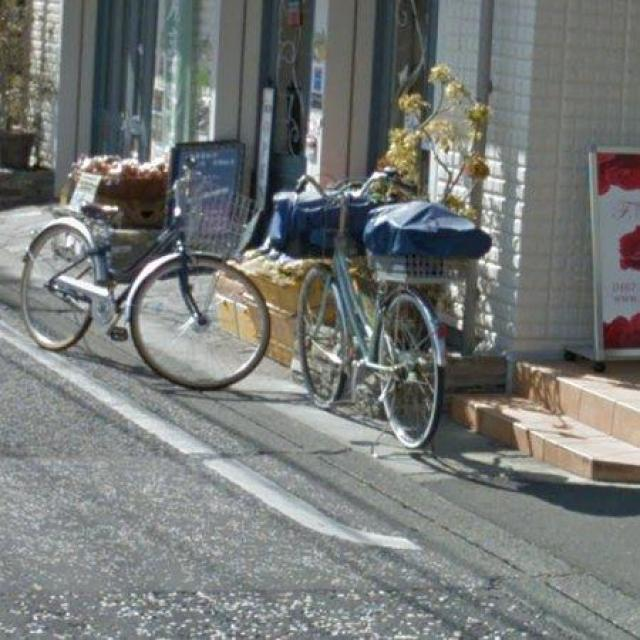bicycle: (23, 169, 272, 391), (267, 179, 446, 450)
